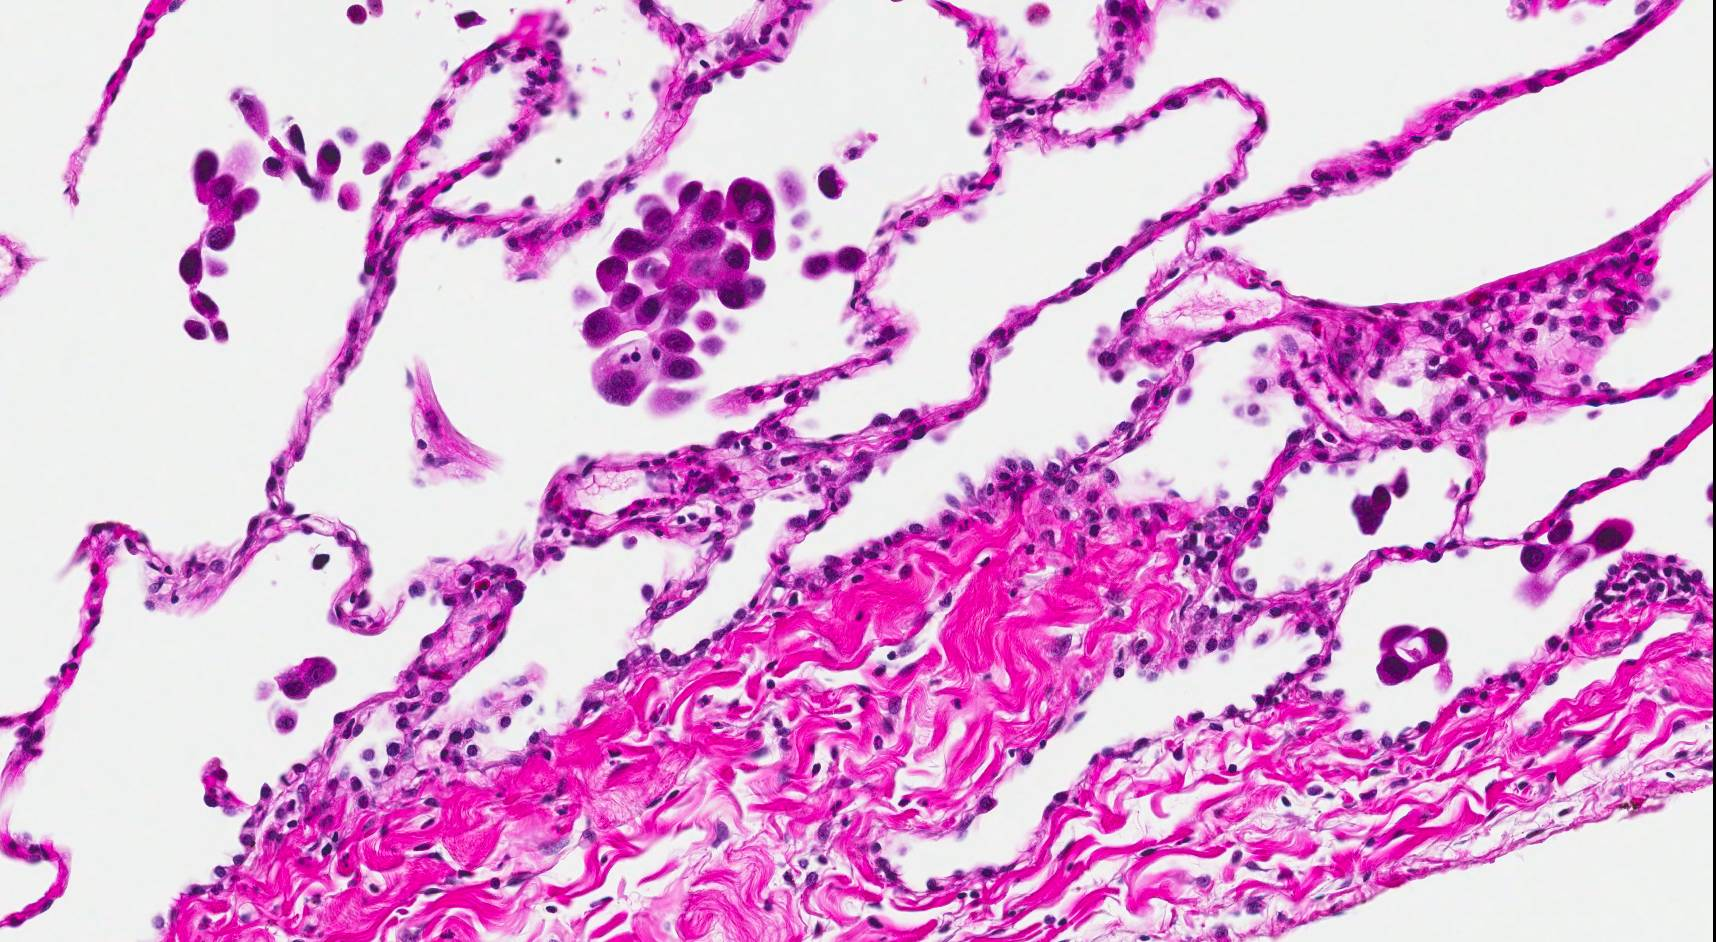stas: (569, 172, 779, 407), (228, 90, 393, 212), (173, 149, 263, 346), (780, 131, 879, 280), (1514, 513, 1638, 607), (1375, 614, 1454, 692), (254, 646, 339, 707), (1345, 470, 1418, 535)
